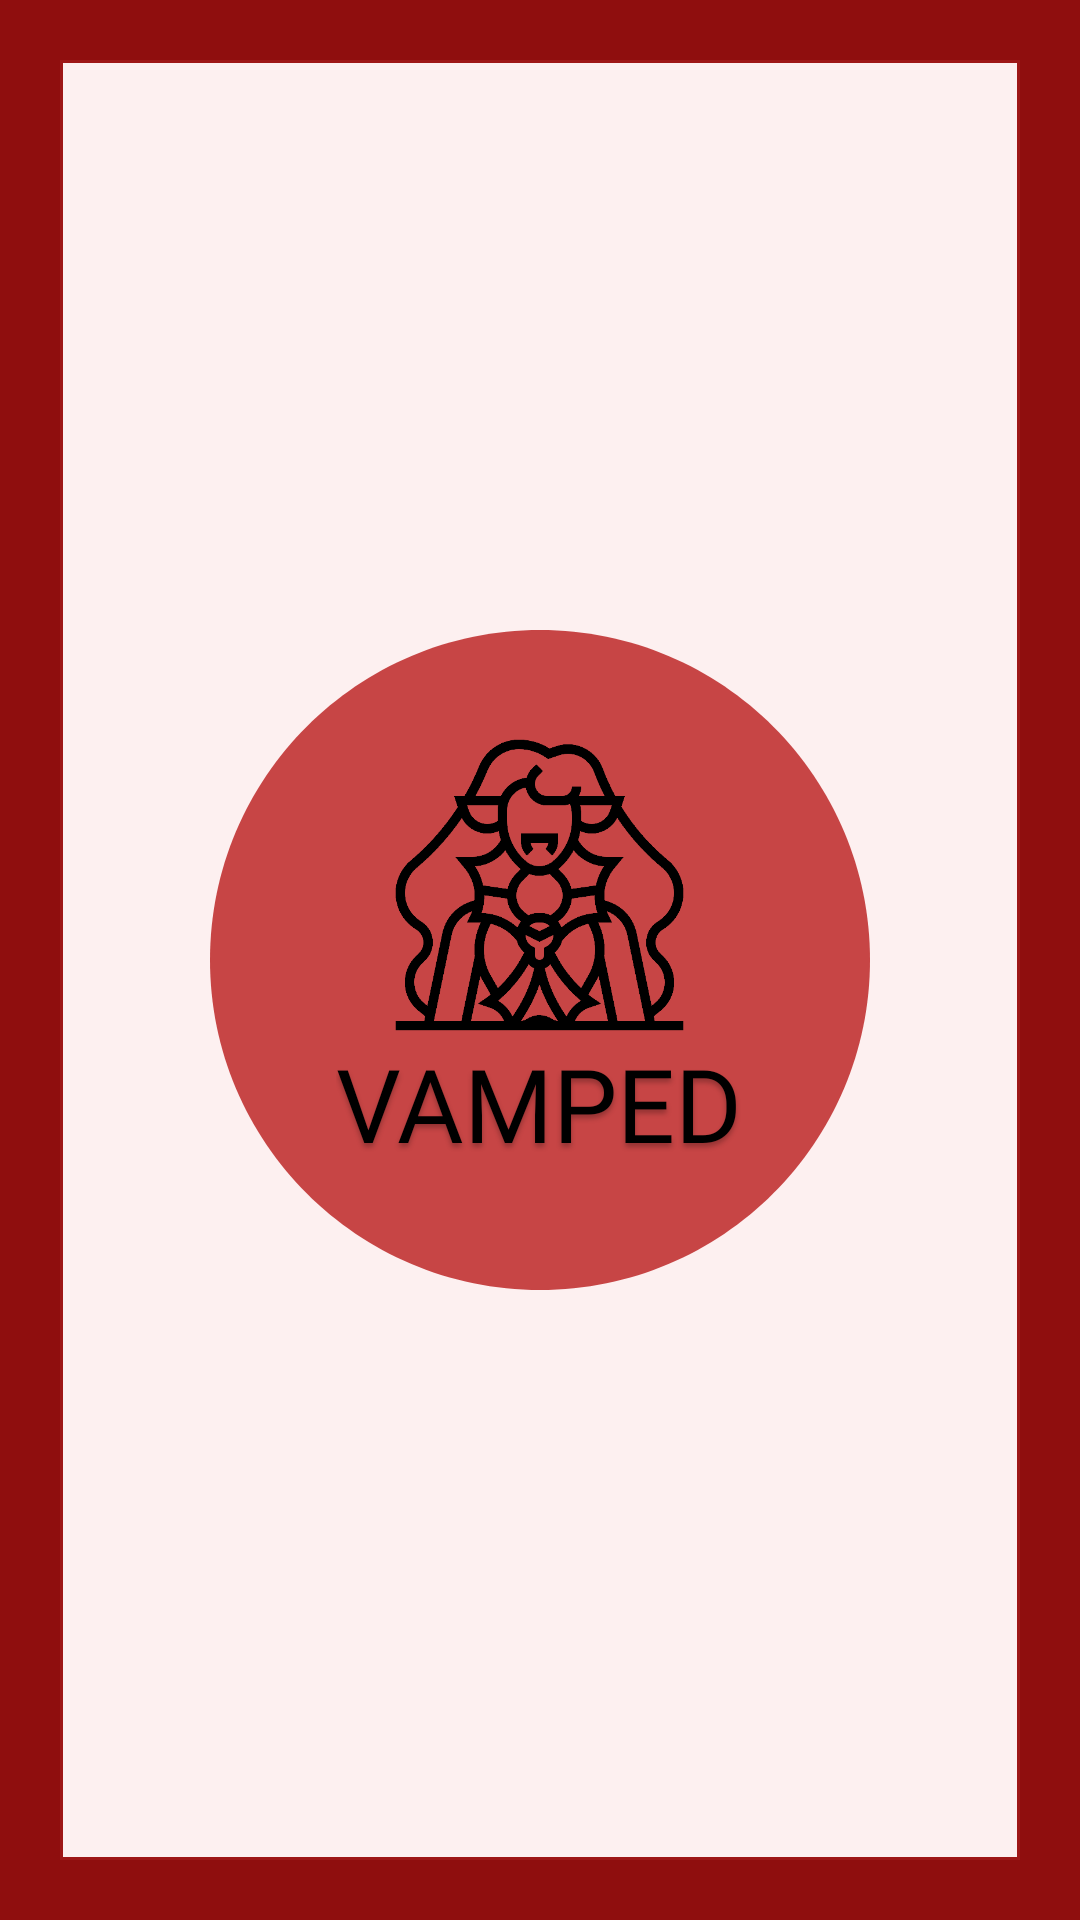

Icons on this 1080*1920 Android screen, each with its box as BBox(x1, y1, x2, y2):
vampire: BBox(395, 739, 684, 1031)
